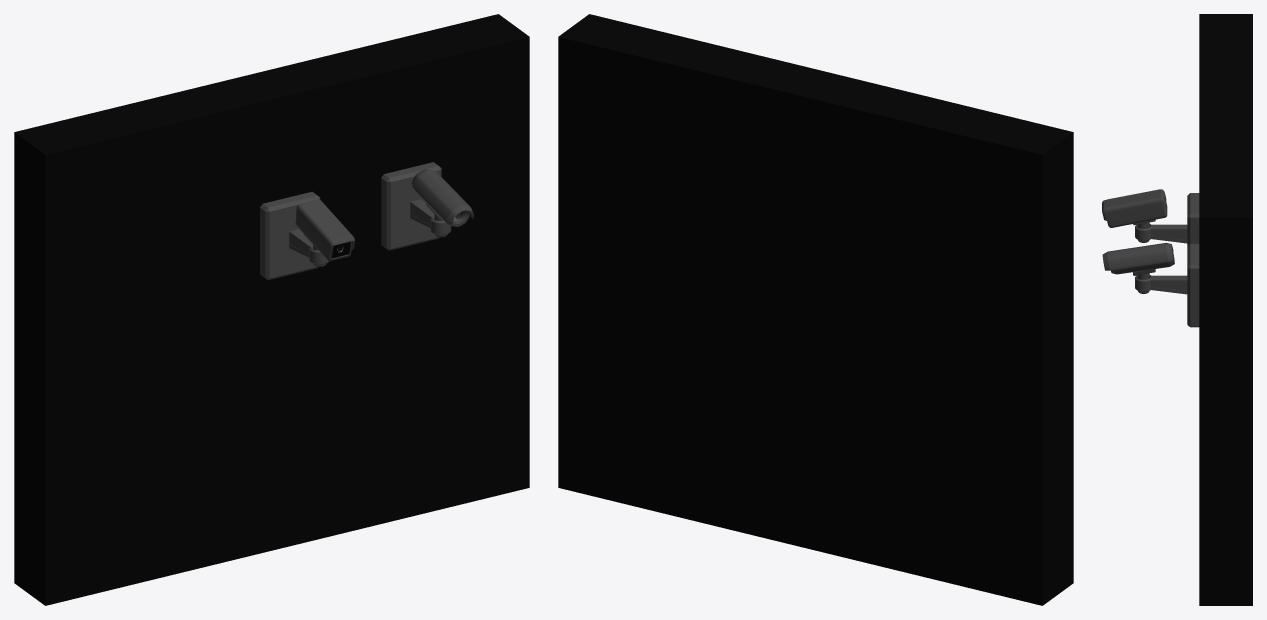
The model's file is camIT.fbx.
The picture shows the model from 3 angles, left to right: view 1: azimuth 30°, elevation 25°; view 2: azimuth 150°, elevation 25°; view 3: azimuth 270°, elevation 25°; orthographic projection. The views are drawn at different scales.
Visible parts, largest first — view 1: pCube1, stand1, stand, squareCam, circleCAM; view 2: pCube1; view 3: pCube1, stand1, squareCam, circleCAM, stand.
Part boxes in pixels (left/top/right/bottom): pCube1: left=14, top=14, right=529, bottom=605; stand1: left=381, top=162, right=451, bottom=250; stand: left=260, top=191, right=328, bottom=280; squareCam: left=295, top=199, right=354, bottom=261; circleCAM: left=412, top=169, right=473, bottom=226; pCube1: left=558, top=14, right=1073, bottom=605; pCube1: left=1199, top=14, right=1252, bottom=605; stand1: left=1135, top=244, right=1199, bottom=327; squareCam: left=1102, top=189, right=1167, bottom=227; circleCAM: left=1102, top=242, right=1174, bottom=274; stand: left=1135, top=193, right=1199, bottom=245.
Size of the model in its own units: 34.97 by 31.12 by 10.96.
6 materials, 2 textured.
